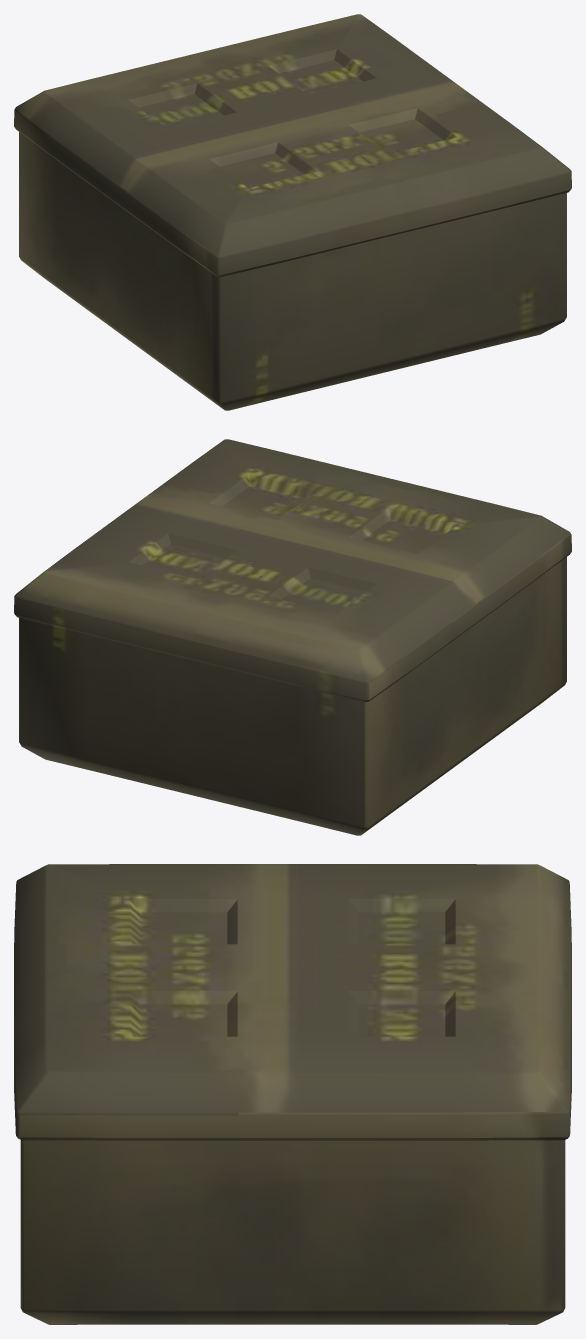
File: mb-ammo-box.lod0.glb
3 views of the same model, one above another, from view 1: azimuth 30°, elevation 25°; view 2: azimuth 150°, elevation 25°; view 3: azimuth 270°, elevation 25° (orthographic). The views are drawn at different scales.
Visible parts, largest first — view 1: box; view 2: box; view 3: box.
Boxes of the visible parts, x1,y1,x2,y2 form: box: [14, 14, 571, 410]; box: [14, 439, 571, 835]; box: [14, 864, 571, 1324].
Bounding box in the file's own units: 0.62 × 0.312 × 0.62.
Materials: 1 (1 with a texture image).
